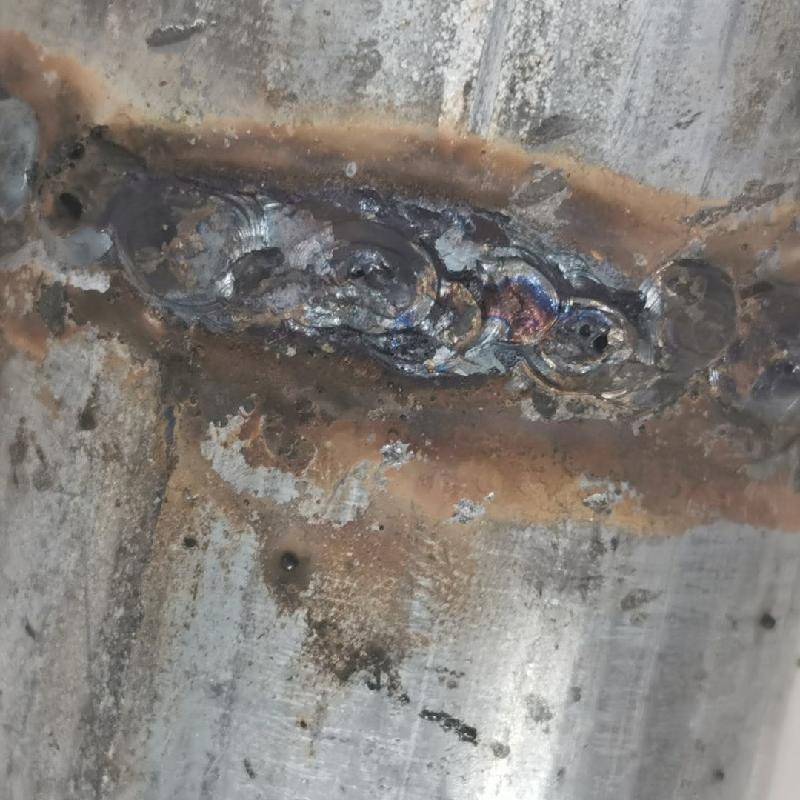Surface_pores: (37, 130, 107, 228), (566, 312, 618, 371)
crater: (298, 200, 629, 399)
wrong_size: (2, 89, 288, 335), (636, 244, 799, 429)
